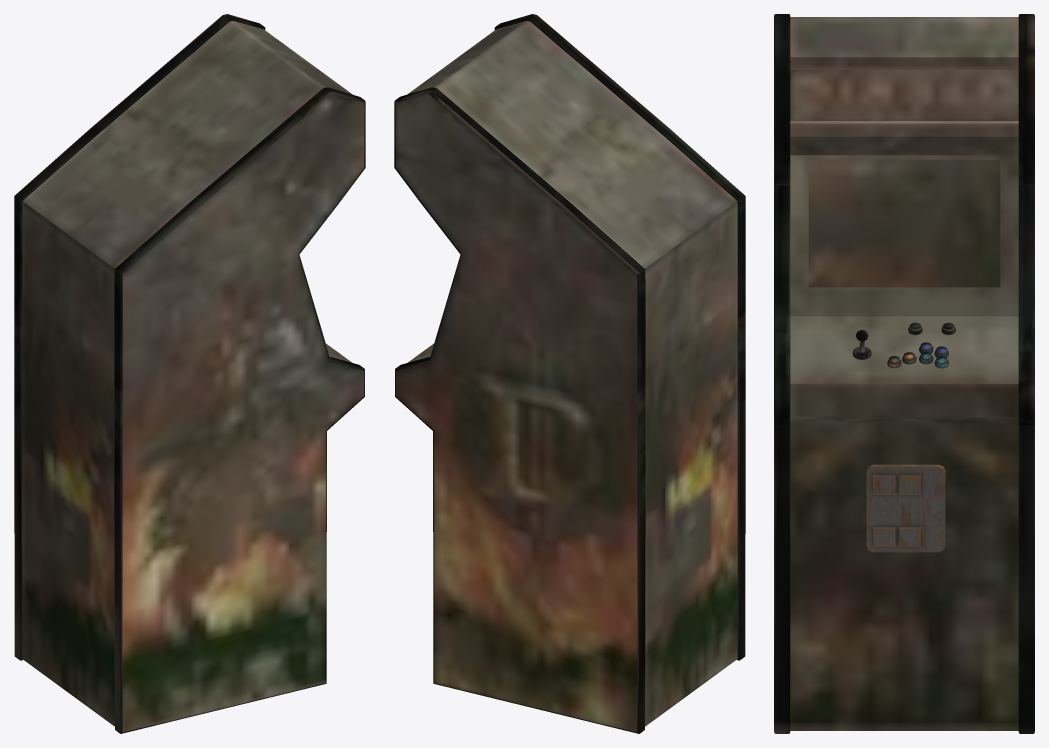
File: arcade_machine.glb
3 views of the same model, side by side, from view 1: azimuth 30°, elevation 25°; view 2: azimuth 150°, elevation 25°; view 3: azimuth 270°, elevation 25° (orthographic). The views are drawn at different scales.
Parts seen in each view (by area): view 1: Cube.001_10011_0; view 2: Cube.001_10011_0; view 3: Cube.001_10011_0, Cylinder.001_1001_0.
Boxes of the visible parts, bbox=[...] form: Cube.001_10011_0: bbox=[14, 14, 365, 733]; Cube.001_10011_0: bbox=[394, 14, 745, 733]; Cube.001_10011_0: bbox=[774, 14, 1034, 733]; Cylinder.001_1001_0: bbox=[852, 322, 955, 552].
Size of the model in its own units: 0.858 by 1.97 by 0.6453.
Materials: 2 (2 with a texture image).
